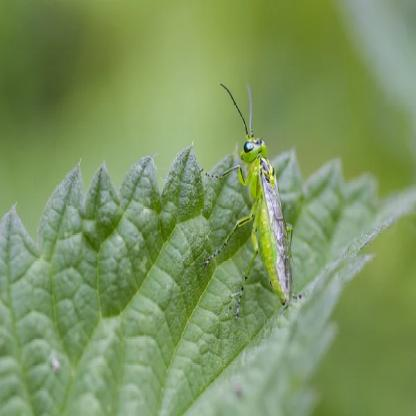sawfly: (203, 80, 302, 315)
